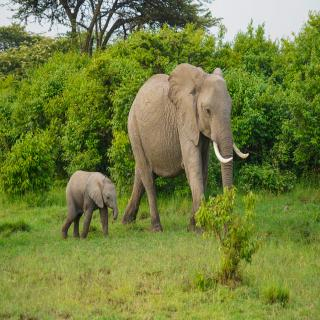Elephant: (121, 60, 251, 234), (59, 163, 122, 243)
